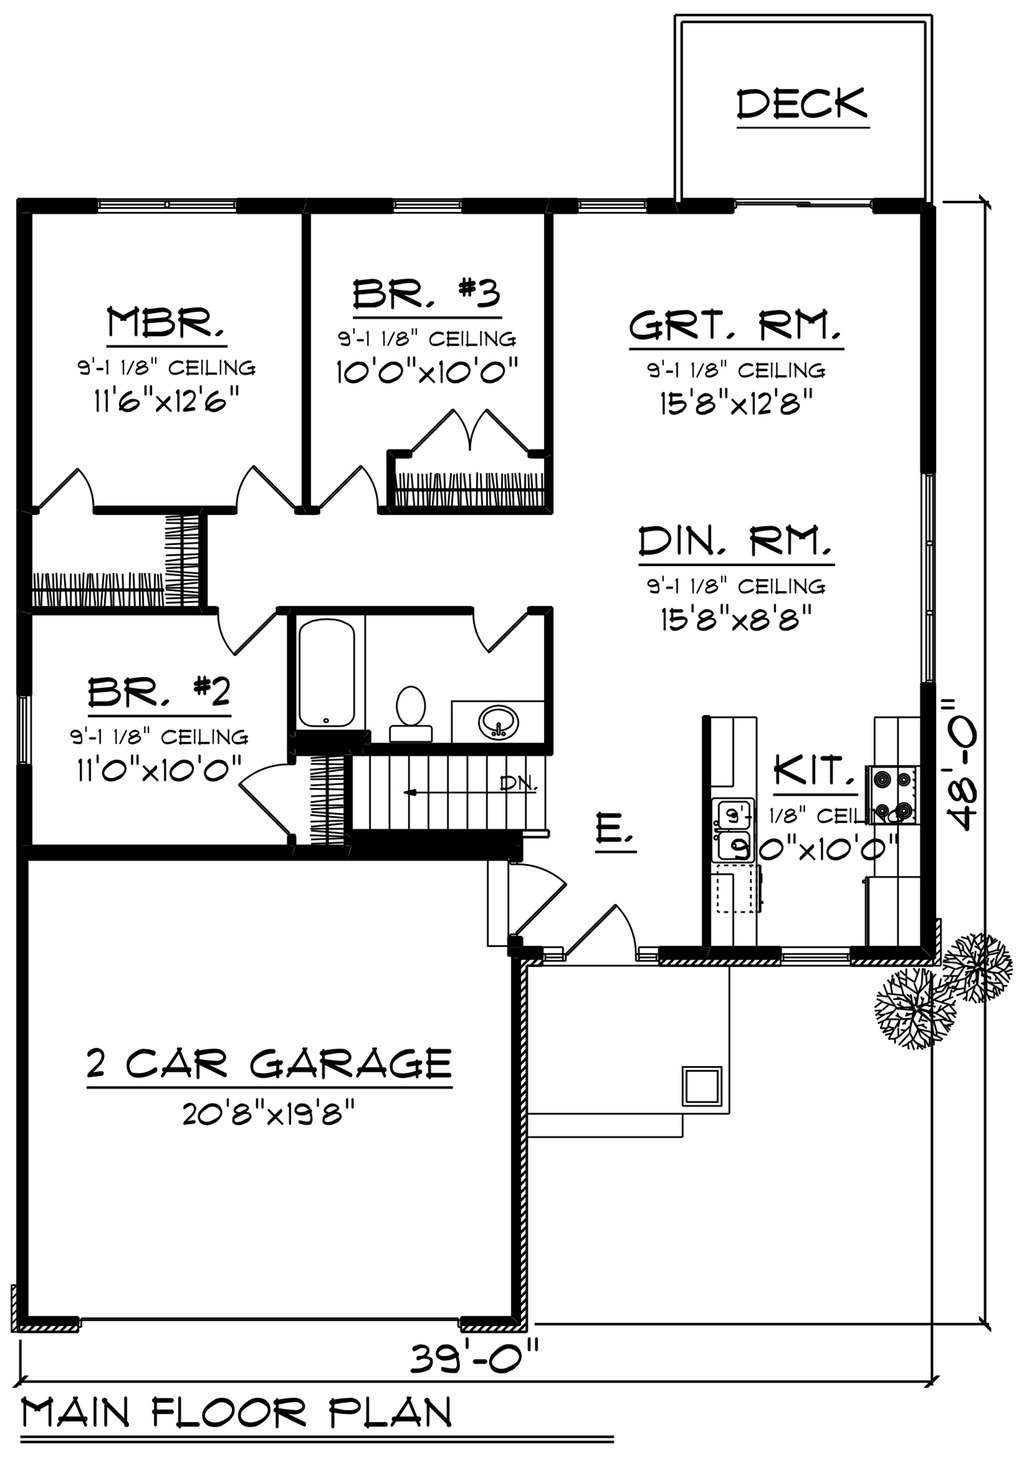door: (373, 388, 551, 474), (460, 848, 575, 950), (544, 883, 646, 968), (460, 574, 553, 663), (226, 743, 311, 839), (37, 463, 140, 523), (204, 583, 280, 659), (300, 459, 400, 512), (221, 459, 320, 512)
large_sink: (380, 673, 437, 743)
small_sink: (455, 702, 553, 748)
stairs: (324, 759, 560, 839)
tub: (295, 610, 362, 733)
twin_sink: (704, 799, 789, 861)
window: (909, 463, 953, 688), (98, 183, 253, 223), (549, 194, 655, 220), (17, 692, 51, 770), (383, 194, 475, 212)
